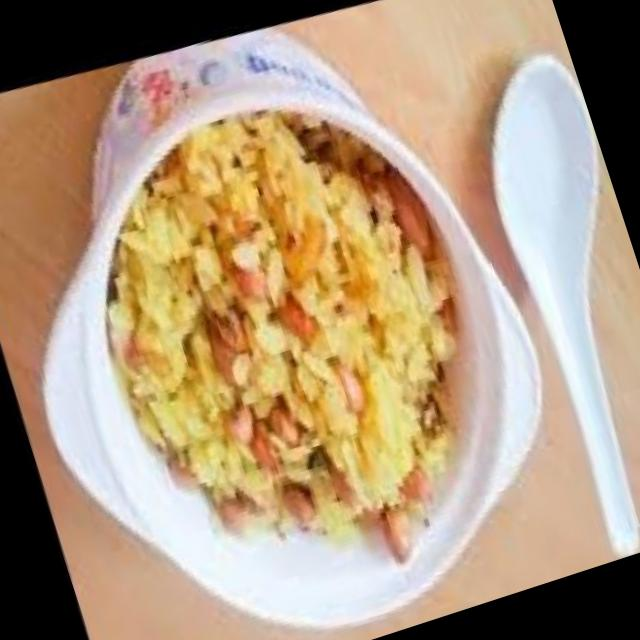poha: (44, 54, 530, 632)
